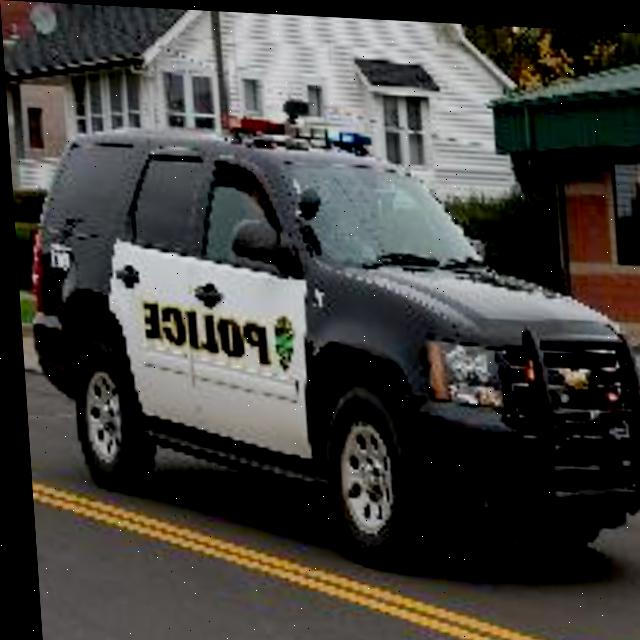emergency: (15, 95, 640, 543)
